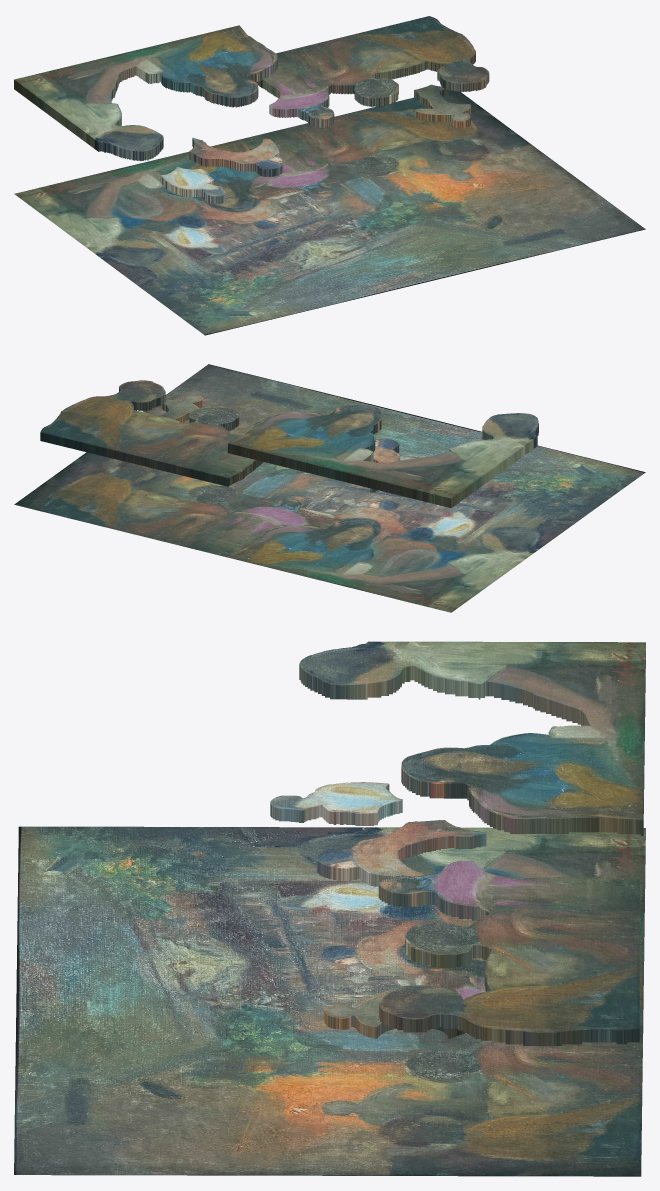
Rendered from cafe23d.fbx.
3 views of the same model, one above another, from view 1: azimuth 30°, elevation 25°; view 2: azimuth 150°, elevation 25°; view 3: azimuth 270°, elevation 25° (orthographic). The views are drawn at different scales.
Visible parts, largest first — view 1: Cafe_Scene_2, cafe1, cafe2, cafe3, cafe4; view 2: Cafe_Scene_2, cafe1, cafe2, cafe4, cafe3; view 3: Cafe_Scene_2, cafe1, cafe2, cafe3, cafe4.
Part boxes in pixels (bbox=[...]): Cafe_Scene_2: bbox=[14, 90, 645, 335]; cafe1: bbox=[14, 25, 277, 160]; cafe2: bbox=[256, 16, 489, 127]; cafe3: bbox=[160, 137, 283, 204]; cafe4: bbox=[414, 84, 470, 128]; Cafe_Scene_2: bbox=[14, 364, 645, 612]; cafe1: bbox=[228, 404, 538, 508]; cafe2: bbox=[40, 380, 263, 486]; cafe4: bbox=[161, 394, 202, 422]; cafe3: bbox=[370, 438, 399, 493]; Cafe_Scene_2: bbox=[14, 826, 645, 1176]; cafe1: bbox=[299, 641, 645, 835]; cafe2: bbox=[378, 860, 639, 1045]; cafe3: bbox=[270, 782, 486, 886]; cafe4: bbox=[324, 989, 466, 1038].
Bounding box in the file's own units: 132 × 32.76 × 101.
